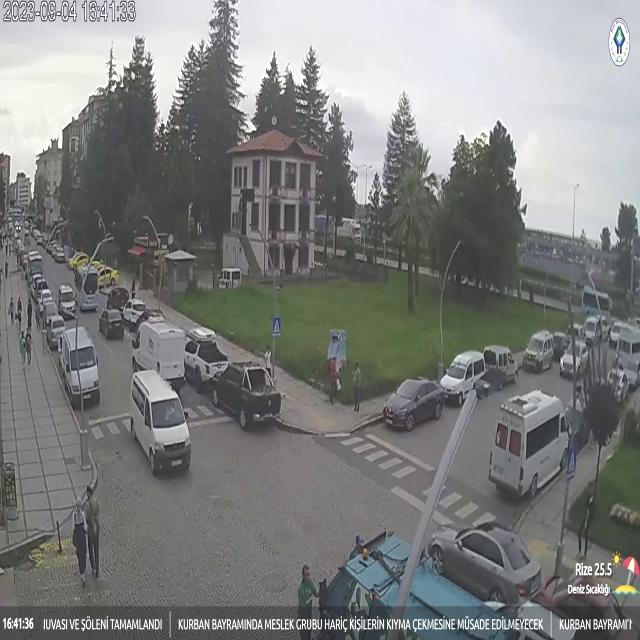Car: (430, 520, 541, 606), (213, 362, 282, 429), (381, 376, 445, 434), (183, 336, 230, 390), (482, 344, 518, 385), (524, 330, 554, 372), (559, 340, 589, 379), (99, 308, 125, 340), (122, 298, 148, 327), (582, 315, 608, 344), (44, 314, 66, 347), (95, 262, 120, 287), (106, 286, 130, 312), (186, 326, 217, 346), (217, 267, 242, 289), (58, 286, 76, 316), (37, 290, 55, 318), (68, 252, 90, 271), (567, 322, 585, 343), (32, 276, 49, 298), (54, 246, 66, 262)
Truck: (488, 390, 572, 500)
Van: (128, 370, 191, 472), (57, 327, 100, 407), (440, 350, 488, 405)
